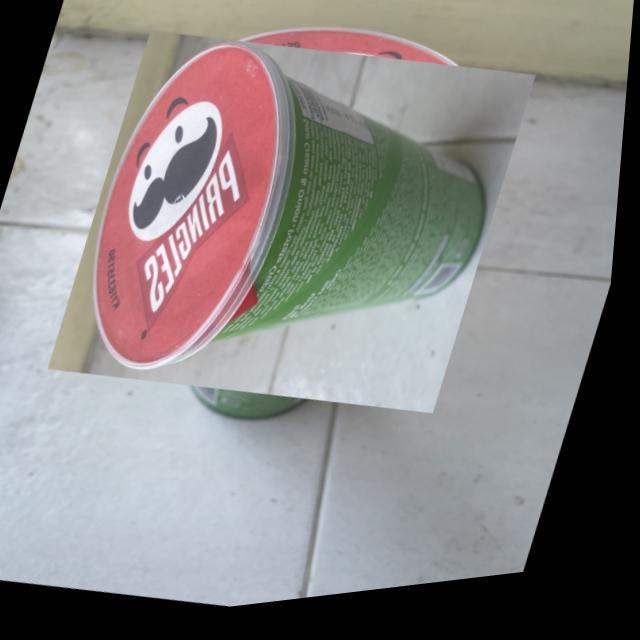a pringles: (59, 0, 532, 472)
